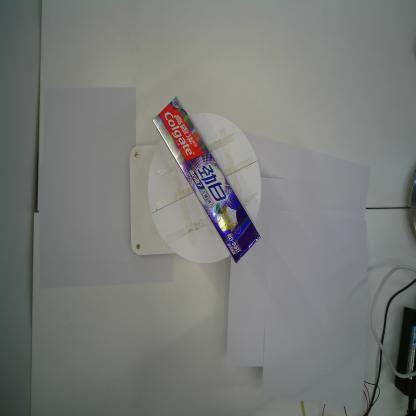Personal Hygiene: (152, 95, 260, 265)
